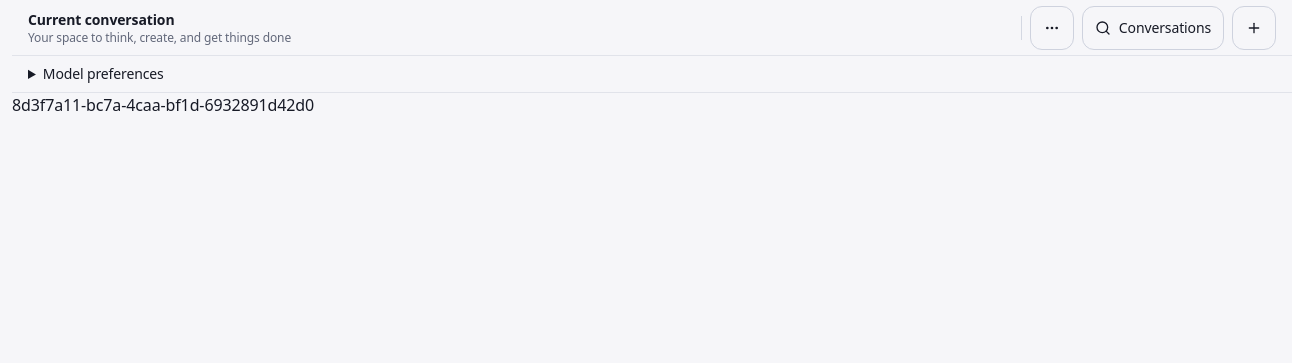
CopilotKit consumer session adapter › keeps history open and reports an unverified session load
Click the button with aria-label "Find conversations" at (1153, 28), box [1082, 6, 1224, 50]
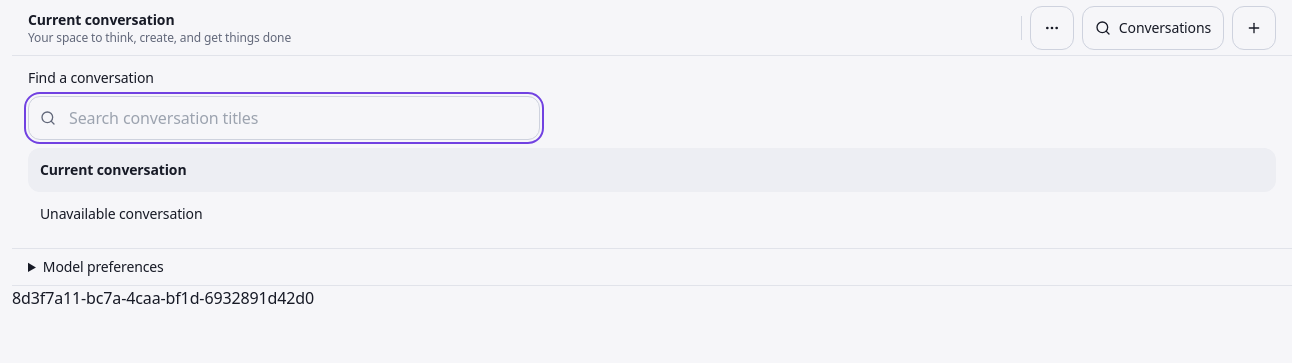
Click the button "Unavailable conversation" at (121, 214), box [28, 192, 1276, 236]
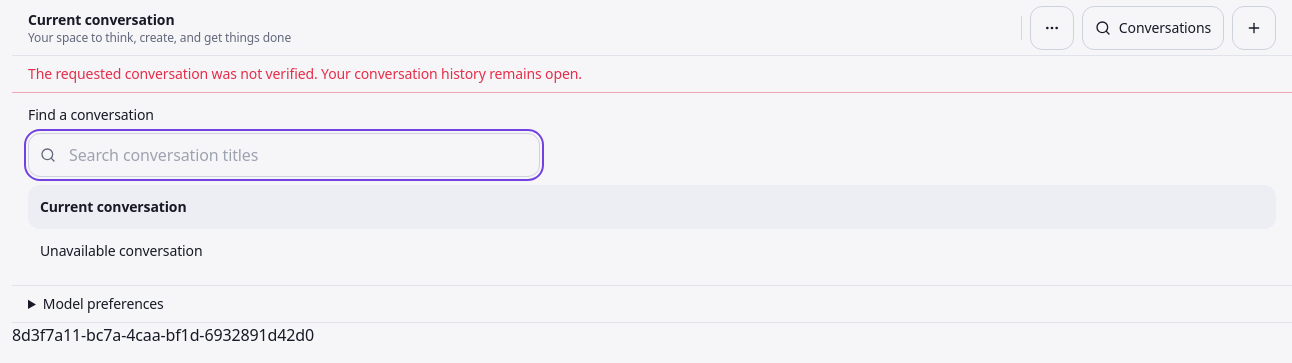
Expected: the text with test id "owned-copilot-chat" reads "8d3f7a11-bc7a-4caa-bf1d-6932891d42d0", [12, 324, 314, 346]
Expected: the search field labelled "Find a conversation" is shown, [28, 133, 540, 177]
Expected: the message shows "not verified", [28, 64, 582, 83]
